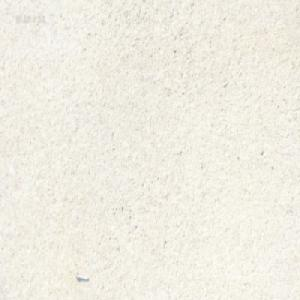Nail: (75, 272, 90, 281)
